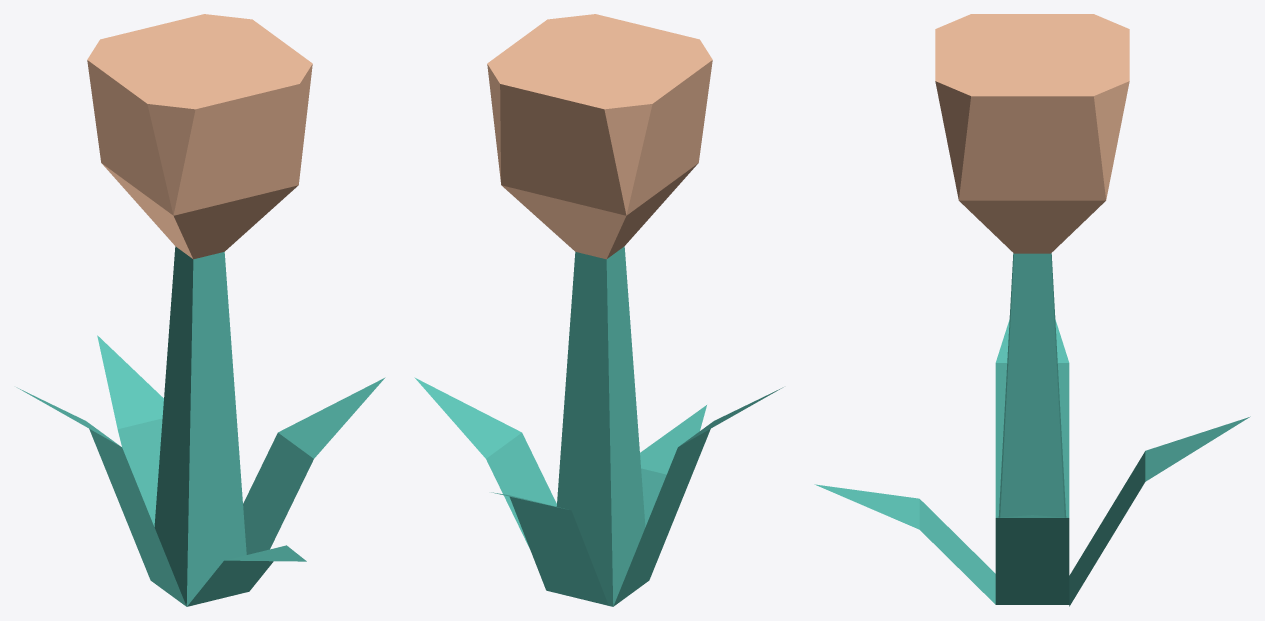
Rendered from flower_beige1.fbx.
3 views of the same model, side by side, from view 1: azimuth 30°, elevation 25°; view 2: azimuth 150°, elevation 25°; view 3: azimuth 270°, elevation 25° (orthographic).
Parts seen in each view (by area): view 1: flower_beige1; view 2: flower_beige1; view 3: flower_beige1.
Part boxes in pixels (x1=…): flower_beige1: x1=16, y1=14, x2=385, y2=606; flower_beige1: x1=414, y1=14, x2=783, y2=606; flower_beige1: x1=814, y1=14, x2=1250, y2=606.
Size of the model in its own units: 2.08 by 2.8 by 2.08.
